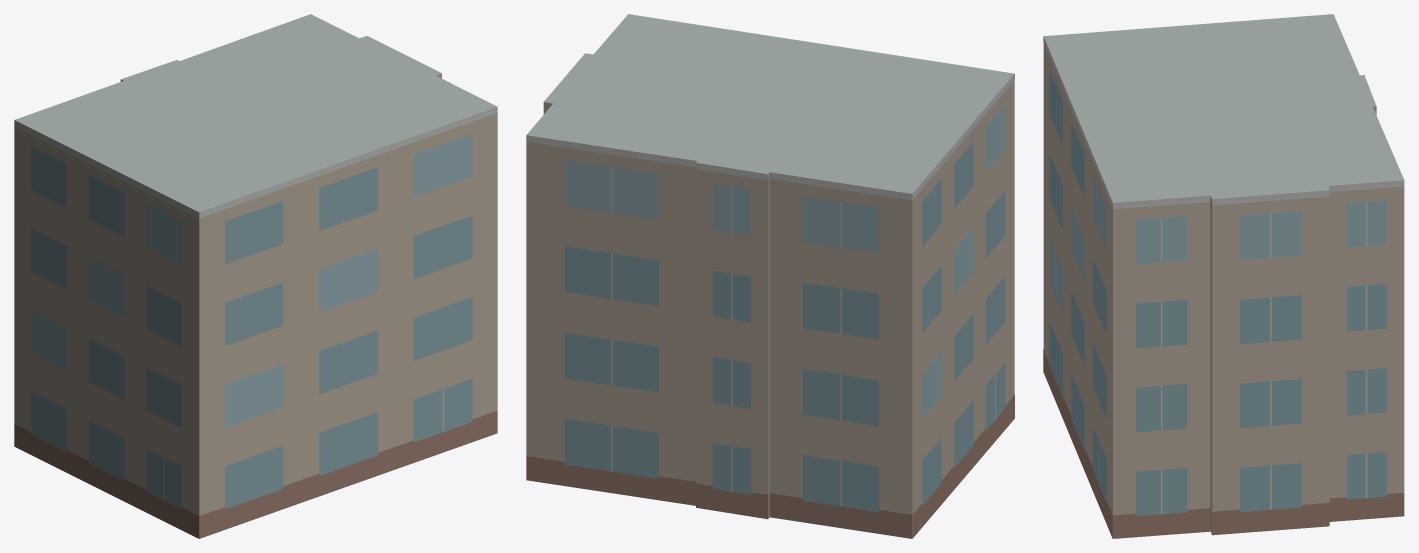
Rendered from survey-upis-32727702.glb.
3 renders of one model, left to right at view 1: azimuth 30°, elevation 25°; view 2: azimuth 150°, elevation 25°; view 3: azimuth 270°, elevation 25°, orthographic. The views are drawn at different scales.
Parts seen in each view (by area): view 1: survey-upis-32727702.tmp; view 2: survey-upis-32727702.tmp; view 3: survey-upis-32727702.tmp.
Part boxes in pixels (x1,y1,x2,y2): survey-upis-32727702.tmp: (14, 14, 497, 538); survey-upis-32727702.tmp: (526, 14, 1014, 538); survey-upis-32727702.tmp: (1043, 14, 1404, 538).
Bounding box in the file's own units: 15.62 × 12.95 × 12.62.
